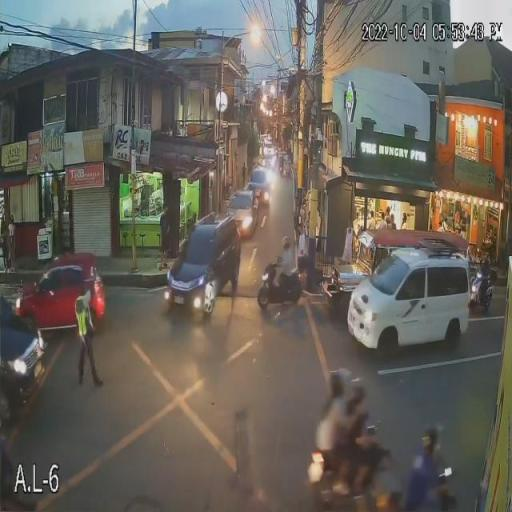helmet: (418, 426, 440, 450), (327, 368, 349, 389), (346, 385, 366, 407), (280, 235, 290, 250)
motorcycle: (306, 423, 392, 511), (257, 255, 306, 312), (468, 260, 494, 315)
rider: (338, 384, 384, 488), (404, 427, 450, 511), (314, 369, 355, 459), (272, 236, 298, 296), (470, 242, 492, 290)
